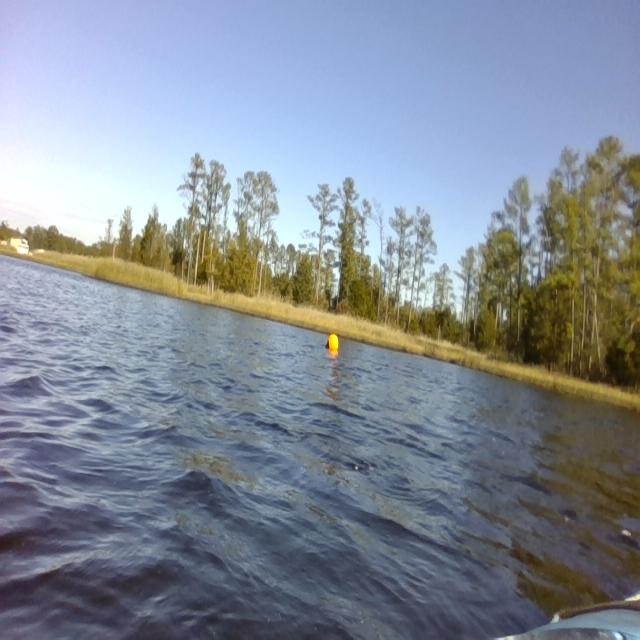Buoy: (322, 330, 342, 358)
